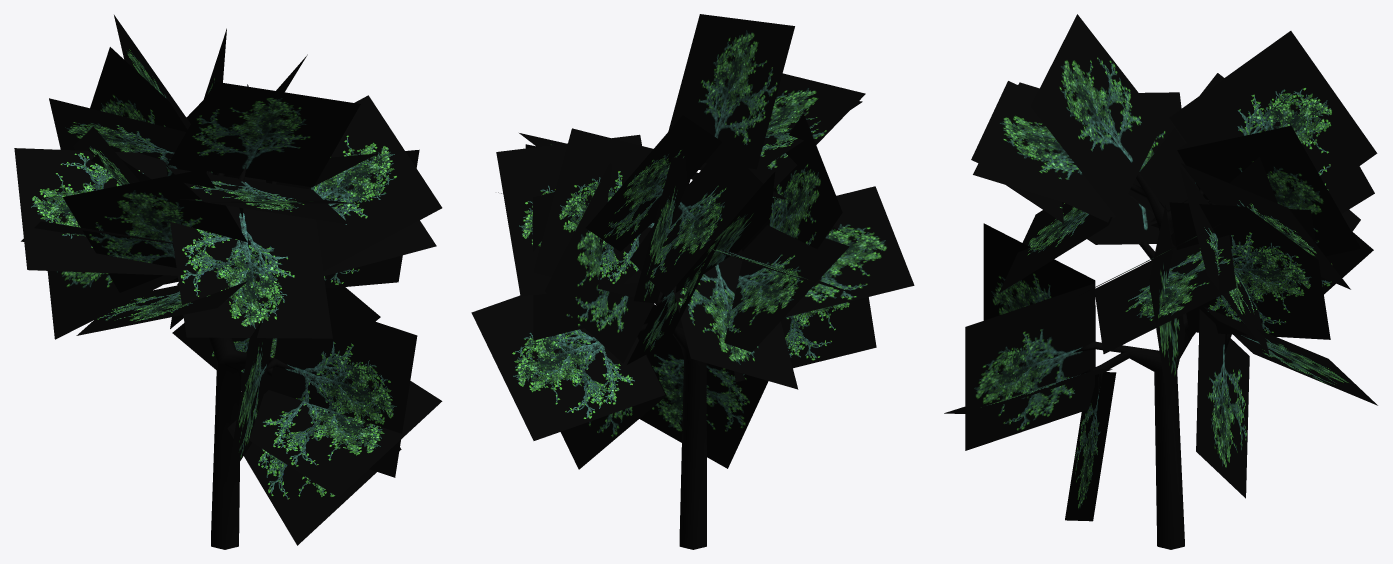
Rendered from tree54.glb.
3 views of the same model, side by side, from view 1: azimuth 30°, elevation 25°; view 2: azimuth 150°, elevation 25°; view 3: azimuth 270°, elevation 25° (orthographic). The views are drawn at different scales.
Bounding box in the file's own units: 5.02 × 6.59 × 5.19.
2 materials, 1 textured.
